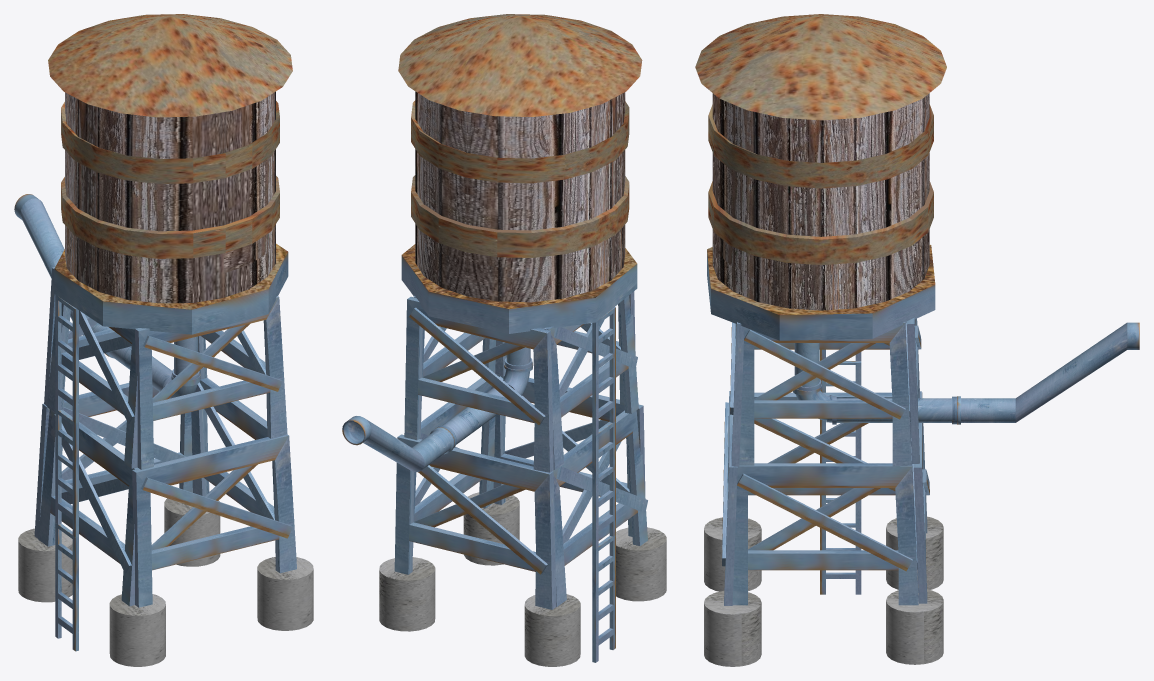
The model's file is WaterTower.fbx.
3 renders of one model, left to right at view 1: azimuth 30°, elevation 25°; view 2: azimuth 150°, elevation 25°; view 3: azimuth 270°, elevation 25°, orthographic. The views are drawn at different scales.
Visible parts, largest first — view 1: TowerWell, TowerWall__3_, TowerFlat, TowerWall__7_, TowerWall__2_, TowerBase__2_, TowerBase__3_, TowerWall__6_, TowerWall, TowerBase, TowerWall__1_, WoodDiagFront_3 (+18 smaller); view 2: TowerWell, TowerWall__1_, TowerWall__4_, TowerFlat, TowerWall__2_, TowerWall__6_, TowerBase__1_, TowerBase, TowerBase__3_, TowerStackPipe, TowerWall, TowerWall__3_ (+18 smaller); view 3: TowerWell, TowerWall, TowerFlat, TowerWall__5_, TowerStackPipe, TowerBase__2_, TowerBase__1_, WoodDiagFront, WoodDiagFront_5, TowerBase__3_, TowerBase, TowerWall__1_ (+13 smaller).
Part boxes in pixels (bbox=[...]): TowerWell: bbox=[48, 14, 292, 303]; TowerWall__3_: bbox=[132, 434, 296, 607]; TowerFlat: bbox=[54, 243, 288, 334]; TowerWall__7_: bbox=[135, 296, 287, 469]; TowerWall__2_: bbox=[38, 409, 138, 606]; TowerBase__2_: bbox=[257, 557, 313, 630]; TowerBase__3_: bbox=[109, 594, 165, 666]; TowerWall__6_: bbox=[47, 303, 137, 468]; TowerWall: bbox=[191, 378, 274, 516]; TowerBase: bbox=[18, 528, 72, 602]; TowerWall__1_: bbox=[34, 383, 192, 538]; WoodDiagFront_3: bbox=[141, 477, 292, 538]; TowerWell: bbox=[398, 14, 642, 302]; TowerWall__1_: bbox=[394, 434, 556, 609]; TowerWall__4_: bbox=[404, 296, 553, 472]; TowerFlat: bbox=[401, 244, 637, 333]; TowerWall__2_: bbox=[552, 410, 647, 606]; TowerWall__6_: bbox=[542, 295, 638, 469]; TowerBase__1_: bbox=[379, 557, 435, 631]; TowerBase: bbox=[524, 594, 580, 666]; TowerBase__3_: bbox=[616, 527, 666, 601]; TowerStackPipe: bbox=[342, 416, 454, 472]; TowerWall: bbox=[412, 377, 495, 555]; TowerWall__3_: bbox=[493, 375, 645, 536]; TowerWell: bbox=[695, 14, 946, 310]; TowerWall: bbox=[732, 463, 918, 605]; TowerFlat: bbox=[707, 245, 935, 340]; TowerWall__5_: bbox=[739, 322, 911, 466]; TowerStackPipe: bbox=[957, 322, 1139, 424]; TowerBase__2_: bbox=[704, 591, 761, 666]; TowerBase__1_: bbox=[886, 589, 943, 664]; WoodDiagFront: bbox=[737, 473, 912, 571]; WoodDiagFront_5: bbox=[744, 329, 905, 419]; TowerBase__3_: bbox=[704, 517, 761, 591]; TowerBase: bbox=[886, 516, 943, 589]; TowerWall__1_: bbox=[913, 391, 927, 603].
Size of the model in its own units: 607 by 1661 by 1071.
